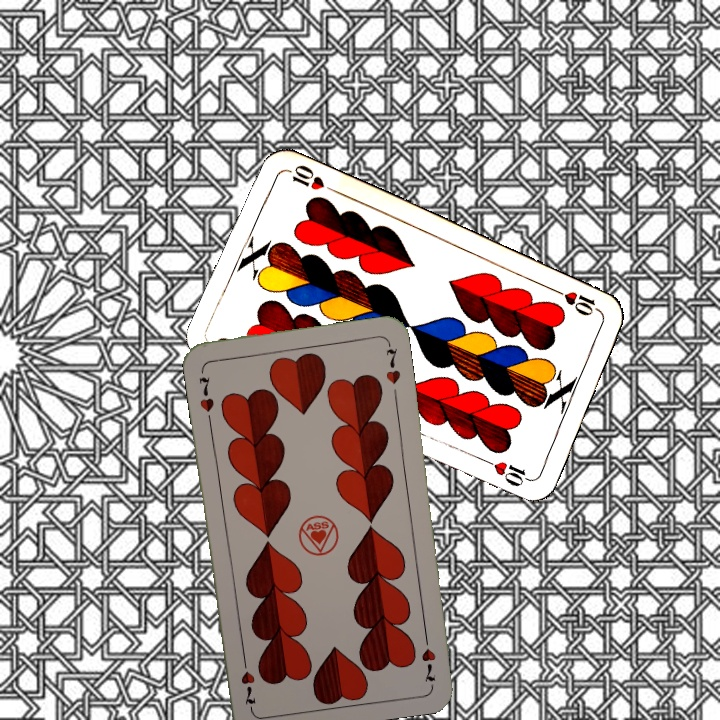H10: (548, 284, 604, 317)
H7: (417, 628, 439, 685), (194, 373, 217, 415)
